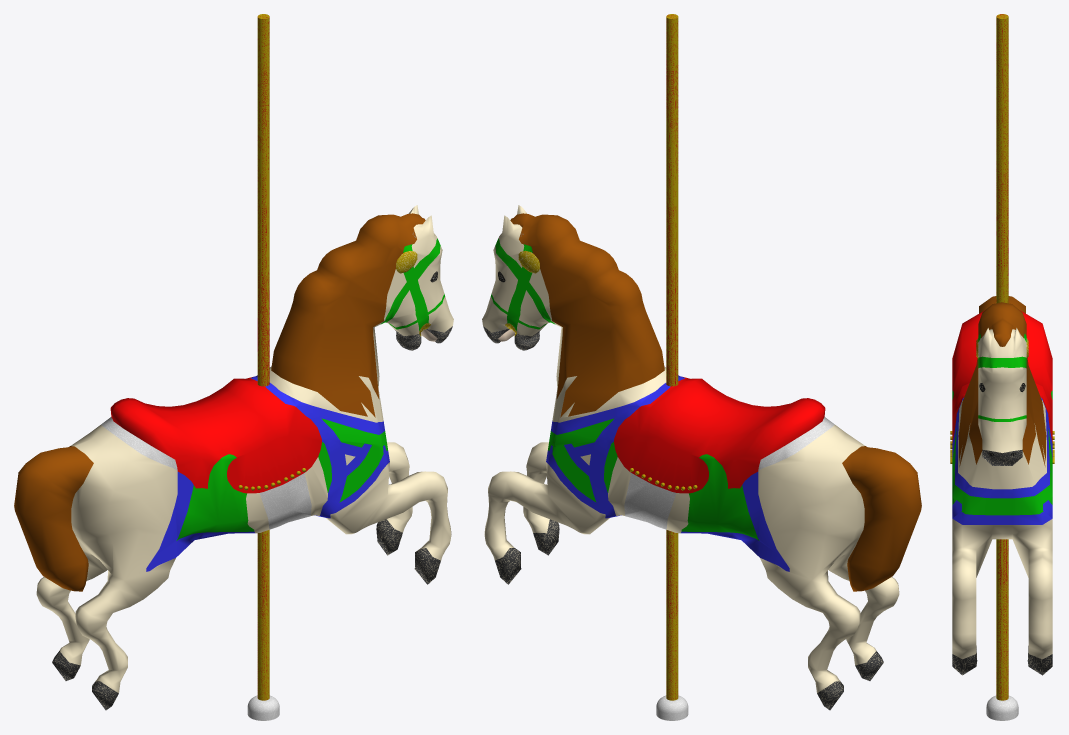
The picture shows the model from 3 angles, left to right: view 1: azimuth 30°, elevation 25°; view 2: azimuth 150°, elevation 25°; view 3: azimuth 270°, elevation 25°; orthographic projection.
Parts seen in each view (by area): view 1: SketchUp (×18), group_0; view 2: SketchUp (×18), group_0; view 3: SketchUp (×15), group_0.
Boxes of the visible parts, <box> form: SketchUp (×18): <box>14,205,451,720</box>; group_0: <box>257,14,269,700</box>; SketchUp (×18): <box>484,205,921,720</box>; group_0: <box>666,14,678,700</box>; SketchUp (×15): <box>952,296,1052,720</box>; group_0: <box>996,14,1008,700</box>.
Size of the model in its own units: 62.77 by 13 by 96.
